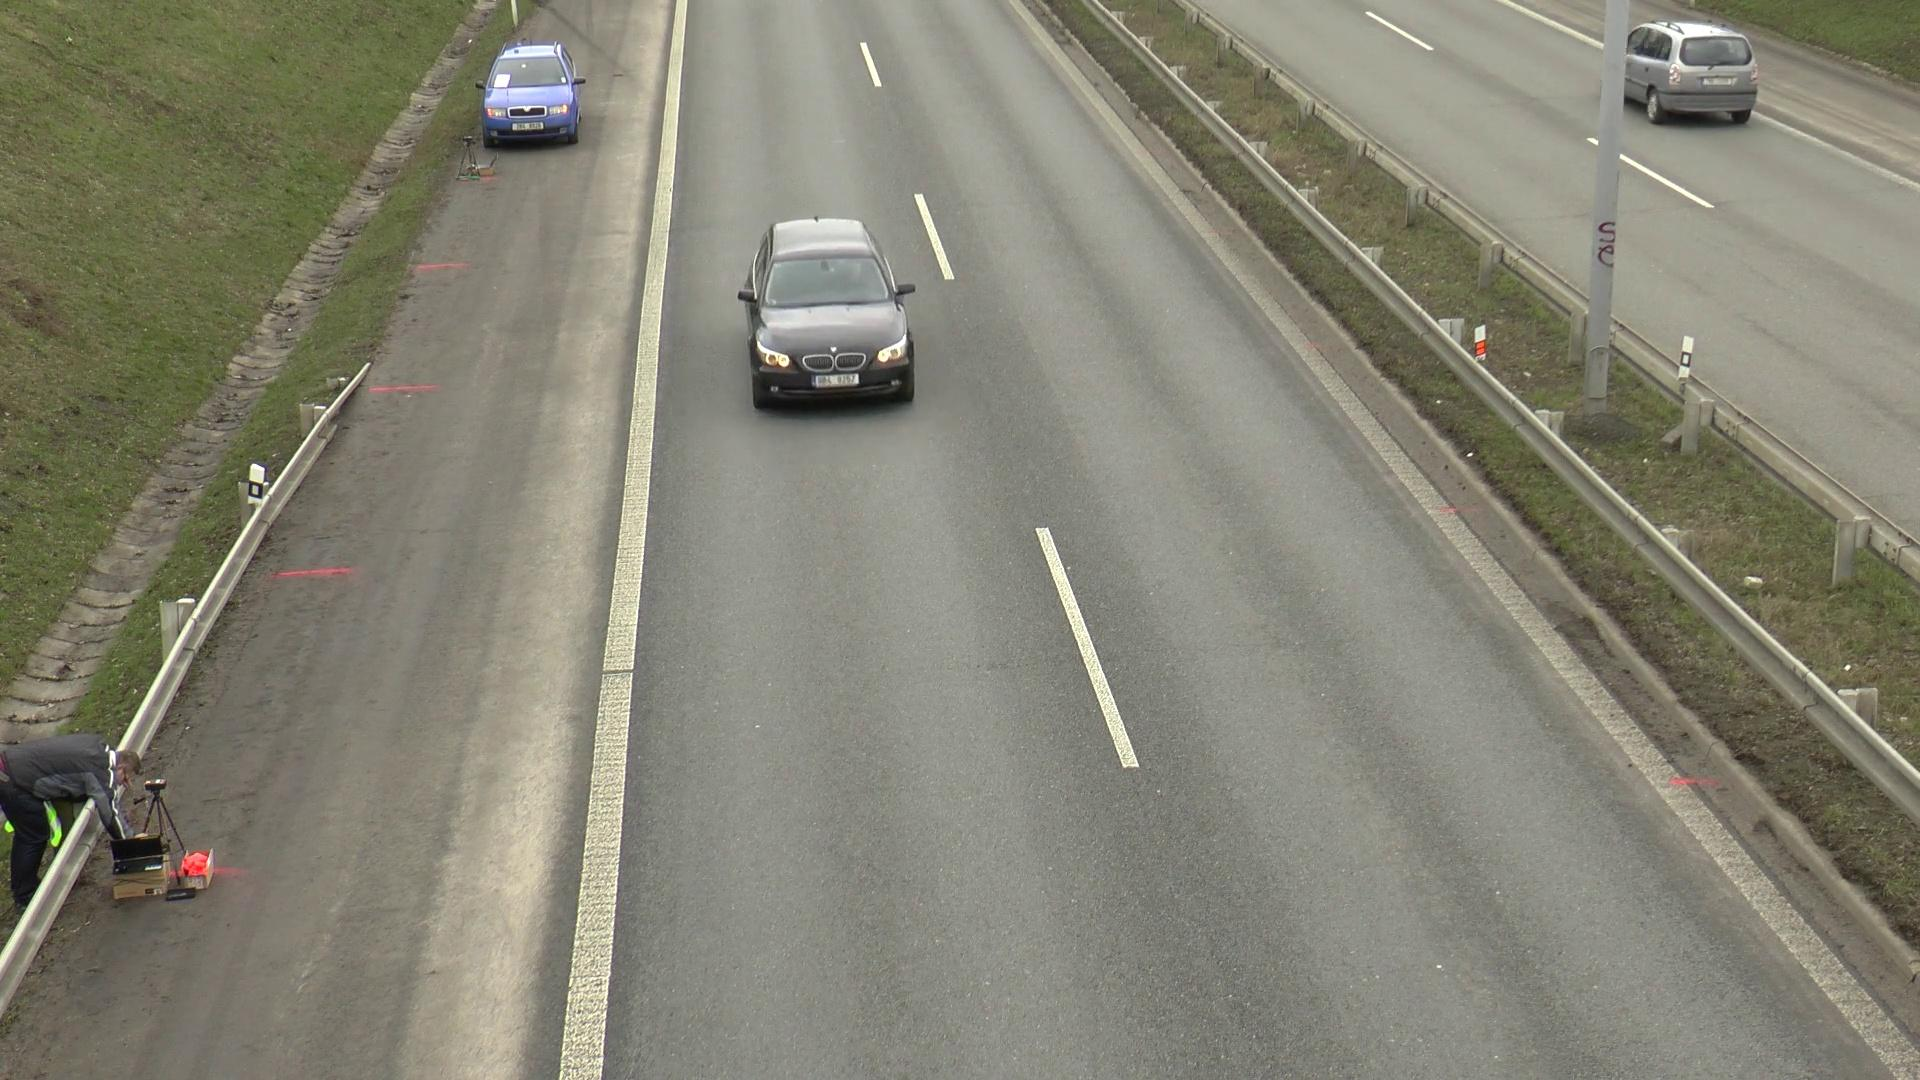Car: (718, 220, 930, 427), (1606, 24, 1774, 143), (458, 42, 598, 161)
Human: (14, 718, 133, 923)
